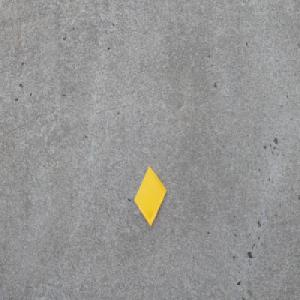PlasticPart: (133, 164, 166, 227)
